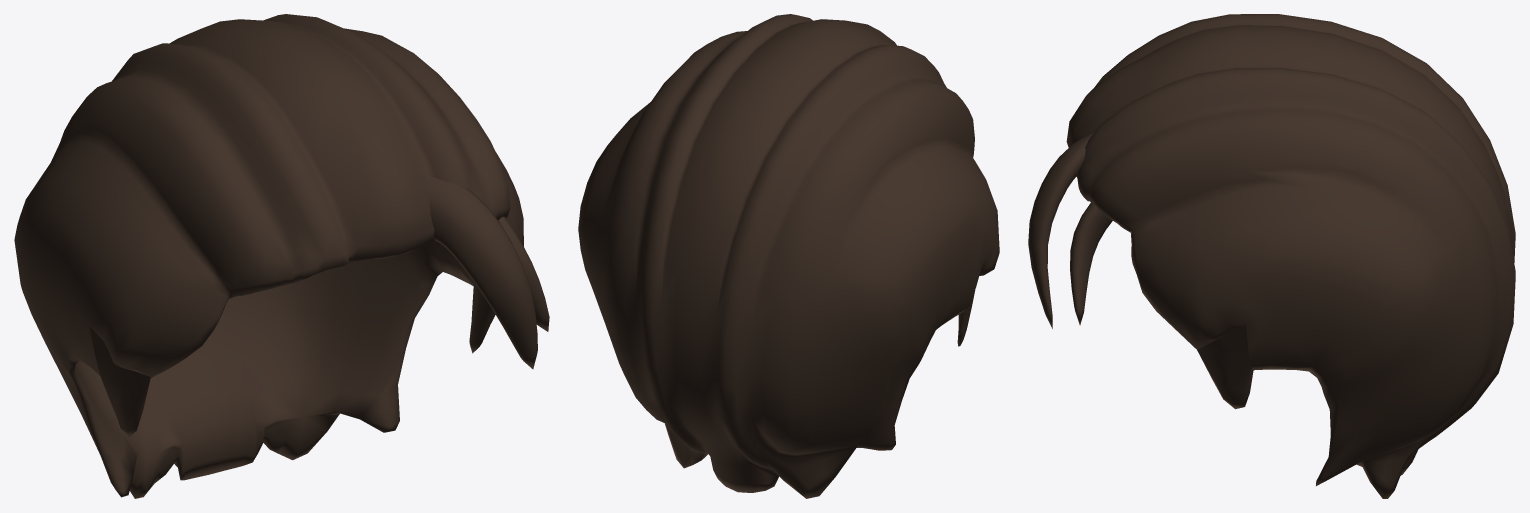
The model's file is hair_crop_female.glb.
The picture shows the model from 3 angles, left to right: view 1: azimuth 30°, elevation 25°; view 2: azimuth 150°, elevation 25°; view 3: azimuth 270°, elevation 25°; orthographic projection. The views are drawn at different scales.
Parts seen in each view (by area): view 1: hair_crop_female; view 2: hair_crop_female; view 3: hair_crop_female.
Boxes of the visible parts, bbox=[...] form: hair_crop_female: bbox=[14, 14, 549, 498]; hair_crop_female: bbox=[578, 14, 999, 498]; hair_crop_female: bbox=[1028, 14, 1515, 498].
Size of the model in its own units: 0.1915 by 0.2158 by 0.2184.
